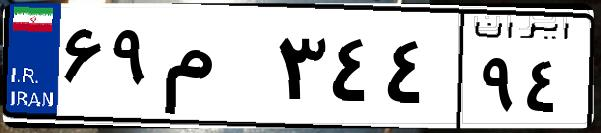3: (270, 28, 330, 110)
4: (385, 28, 445, 110), (330, 28, 385, 110), (525, 38, 570, 115)
6: (57, 26, 110, 100)
9: (475, 38, 525, 113), (110, 28, 158, 98)
م: (158, 20, 270, 120)
